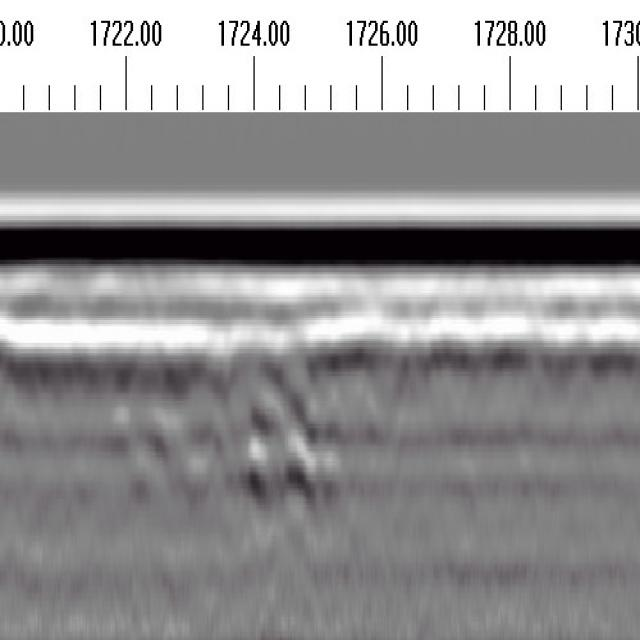loose: (120, 329, 353, 504)
